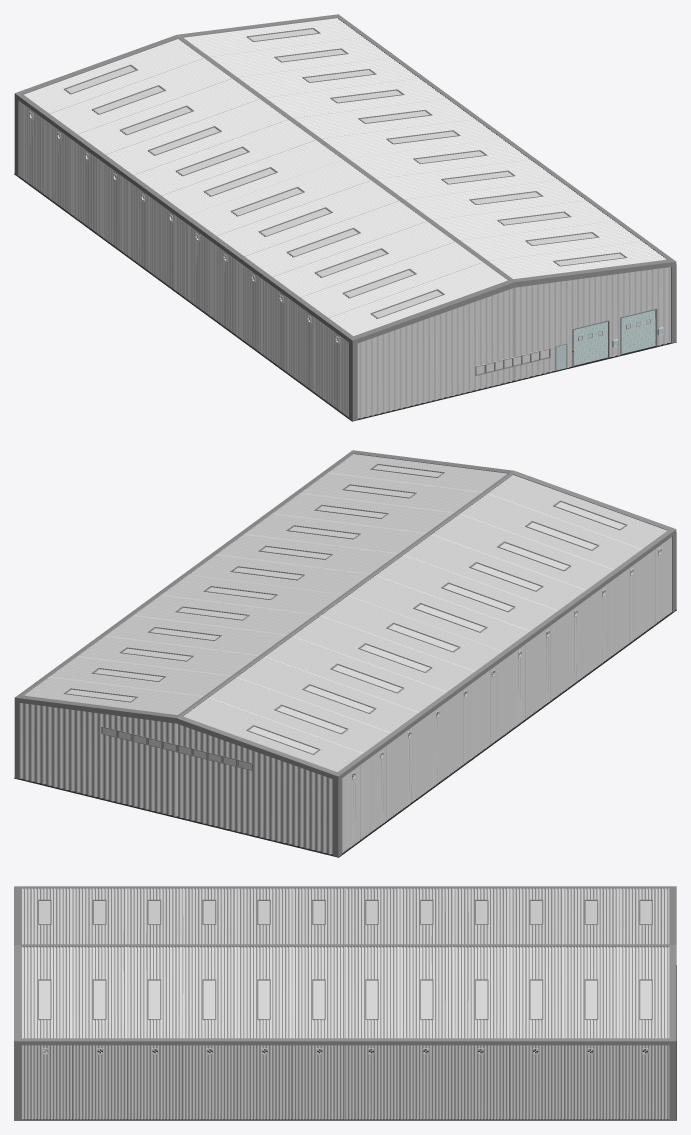
File: SquareHangar.fbx
3 views of the same model, one above another, from view 1: azimuth 30°, elevation 25°; view 2: azimuth 150°, elevation 25°; view 3: azimuth 270°, elevation 25° (orthographic). The views are drawn at different scales.
Parts seen in each view (by area): view 1: 03. dinding, 02. dinding depan, 04. besi lis, 05. gerbang, 06. lantai; view 2: 03. dinding, 02. dinding depan, 04. besi lis, 06. lantai, 05. gerbang; view 3: 03. dinding, 04. besi lis, 06. lantai.
Boxes of the visible parts, x1,y1,x2,y2 form: 03. dinding: (19,18,667,416); 02. dinding depan: (59,135,670,418); 04. besi lis: (14,14,676,420); 05. gerbang: (475,308,657,375); 06. lantai: (14,173,676,421); 03. dinding: (25,454,671,852); 02. dinding depan: (20,551,659,854); 04. besi lis: (14,450,676,856); 06. lantai: (14,593,676,857); 05. gerbang: (101,726,253,770); 03. dinding: (21,888,669,1119); 04. besi lis: (14,886,676,1119); 06. lantai: (14,965,676,1120).
Size of the model in its own units: 1732 by 509 by 3124.
